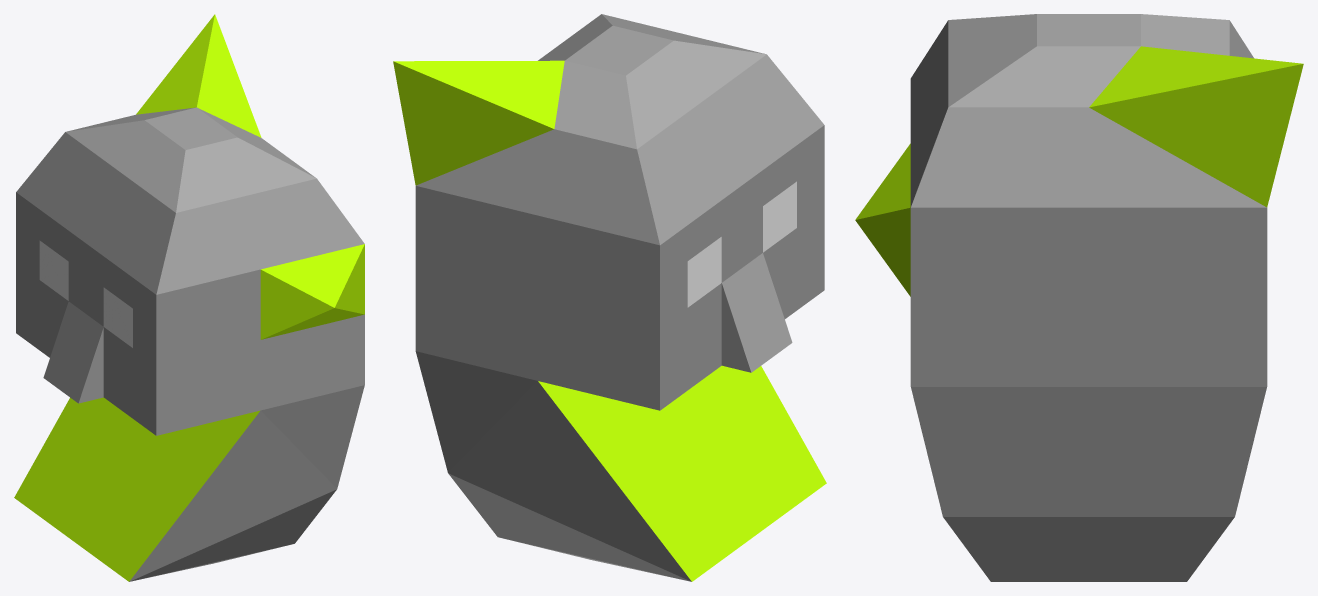
The model's file is AcidMutantHead.fbx.
3 renders of one model, left to right at view 1: azimuth 30°, elevation 25°; view 2: azimuth 150°, elevation 25°; view 3: azimuth 270°, elevation 25°, orthographic. The views are drawn at different scales.
Parts seen in each view (by area): view 1: AcidMutantHead; view 2: AcidMutantHead; view 3: AcidMutantHead.
Part boxes in pixels (x1,y1,x2,y2): AcidMutantHead: (14,14,364,581); AcidMutantHead: (393,14,826,581); AcidMutantHead: (855,14,1303,581).
Size of the model in its own units: 0.1888 by 0.3243 by 0.242.
